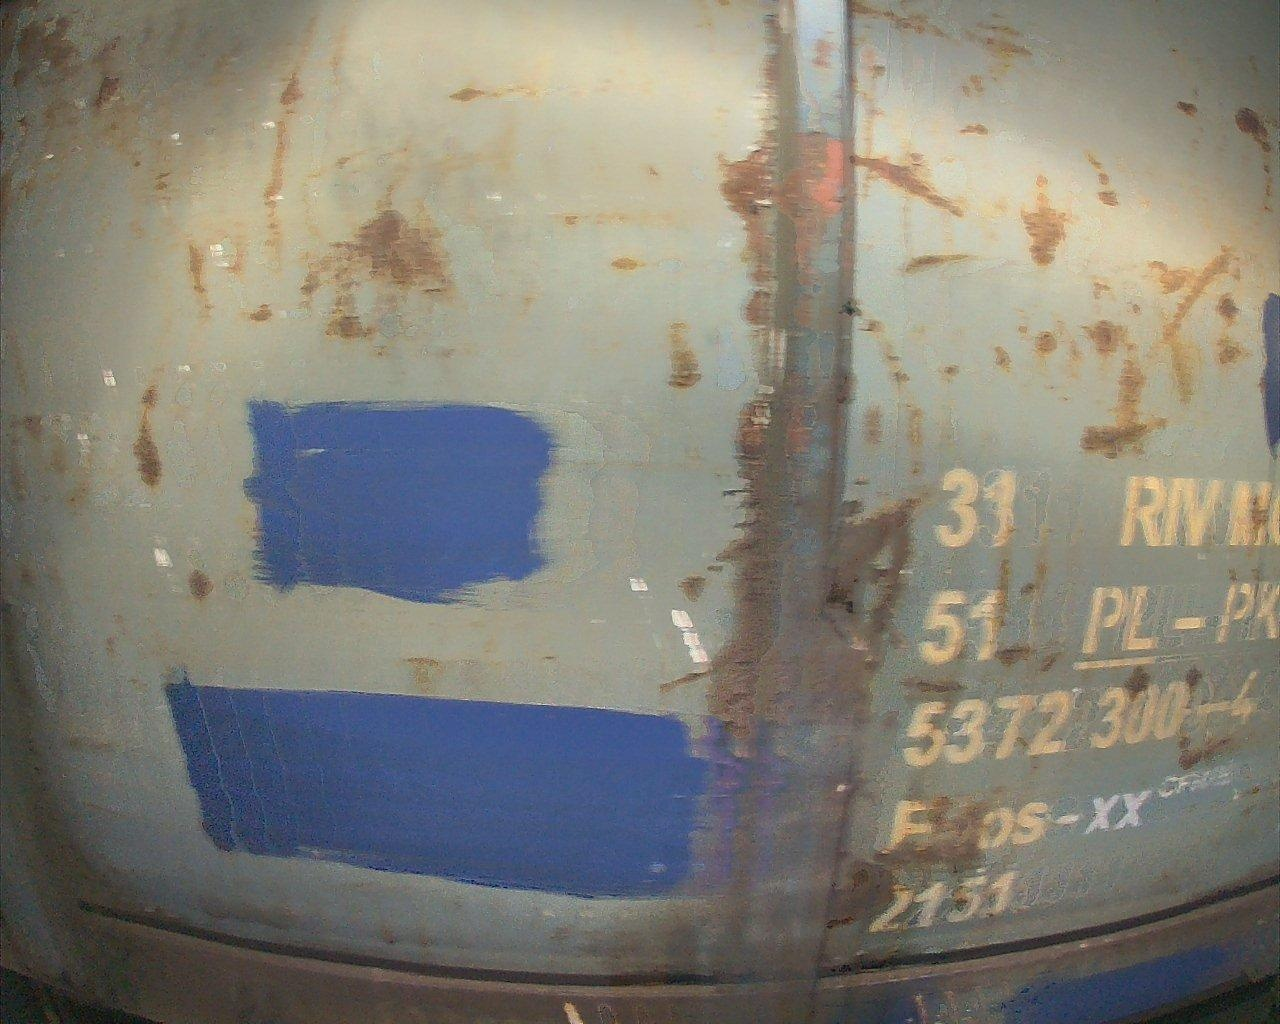UIC: (878, 460, 1280, 941)
